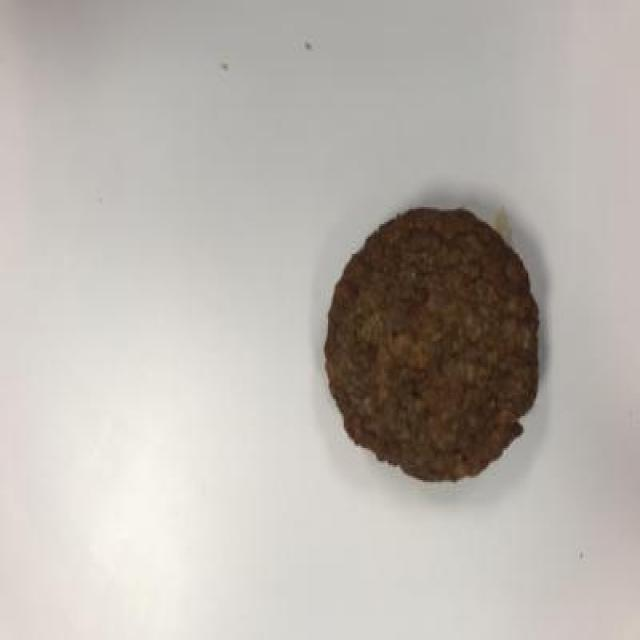compost: (302, 176, 563, 492)
